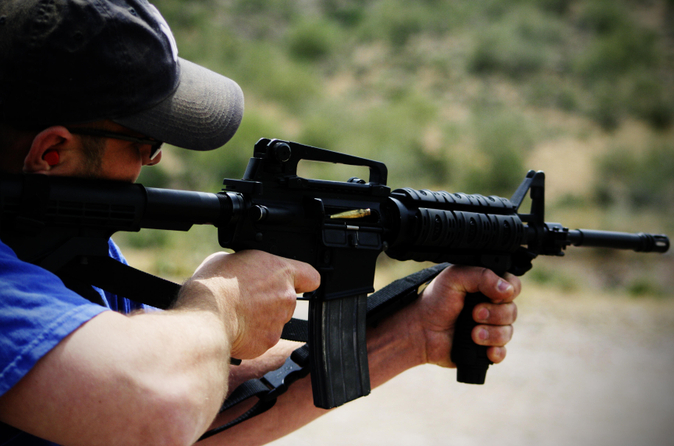Arma Real: (29, 131, 673, 406)
